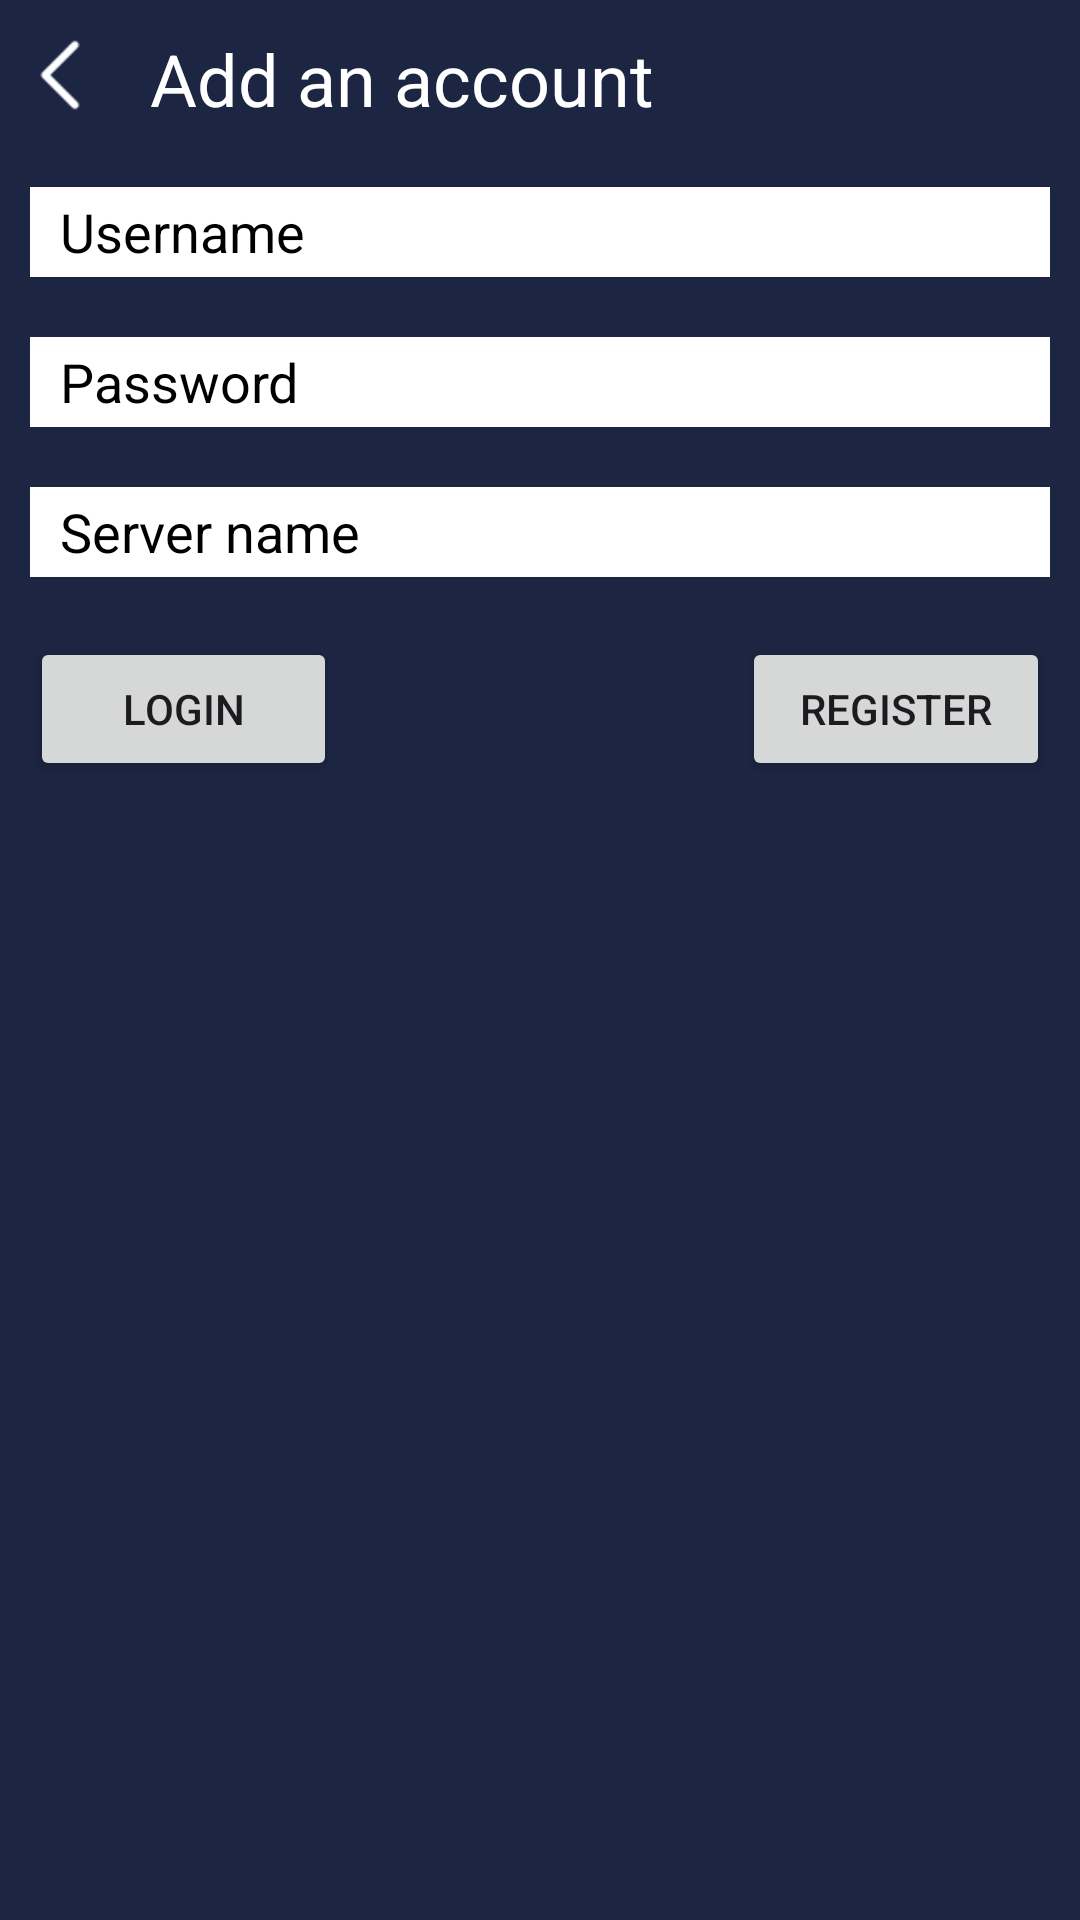

Where icons sit on this 1080w x 1920h app screen, as region(x1, y1, x2, y2):
back: region(40, 40, 80, 110)
